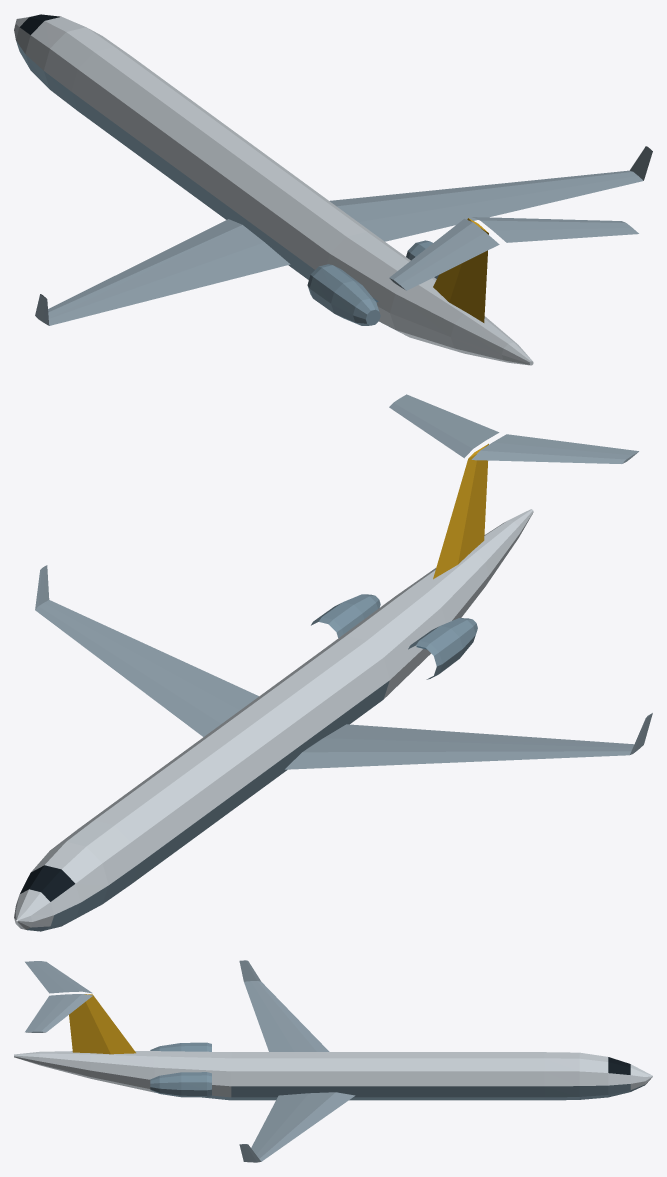
Rendered from CRJ9.glb.
The picture shows the model from 3 angles, top to bottom: view 1: azimuth 30°, elevation 25°; view 2: azimuth 150°, elevation 25°; view 3: azimuth 270°, elevation 25°; orthographic projection. The views are drawn at different scales.
Visible parts, largest first — view 1: lod0; view 2: lod0; view 3: lod0.
Boxes of the visible parts, <box> form: lod0: <box>14,14,652,365</box>; lod0: <box>14,394,652,931</box>; lod0: <box>14,960,652,1162</box>.
Size of what is drawn, in the model's own units: 0.6796 by 0.1806 by 1.
